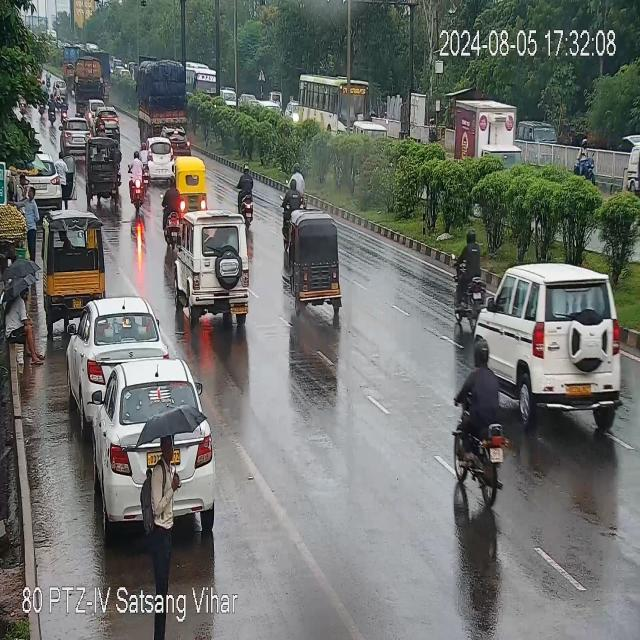2-wheelers: (452, 346, 512, 494), (450, 238, 496, 328), (232, 163, 256, 230), (284, 163, 308, 212), (128, 152, 148, 208), (578, 132, 594, 180), (163, 180, 174, 238), (141, 142, 150, 190), (47, 92, 56, 124), (116, 142, 122, 188), (96, 112, 105, 135), (55, 82, 61, 109), (62, 97, 68, 121), (42, 81, 46, 95)
auto: (286, 214, 348, 320), (43, 212, 109, 310), (82, 140, 122, 208), (175, 159, 211, 213)
bus: (296, 73, 372, 136), (186, 59, 217, 99)
car: (477, 258, 629, 437), (89, 363, 211, 488), (70, 296, 163, 397), (15, 157, 76, 207), (146, 139, 174, 183), (59, 119, 94, 152), (163, 124, 193, 156), (95, 109, 120, 138)
pedestrian: (140, 418, 180, 610), (0, 273, 36, 362), (21, 186, 44, 257), (58, 154, 68, 198), (17, 175, 26, 198)
truck: (172, 212, 254, 330), (449, 97, 524, 175), (137, 56, 190, 129), (72, 51, 106, 100)
